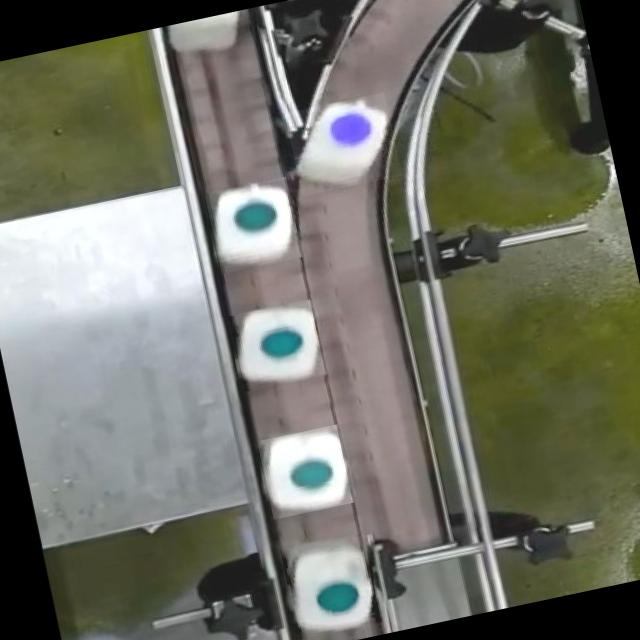milk: (218, 278, 349, 411), (248, 399, 382, 526), (284, 516, 406, 636), (302, 82, 410, 212), (197, 167, 301, 265)
